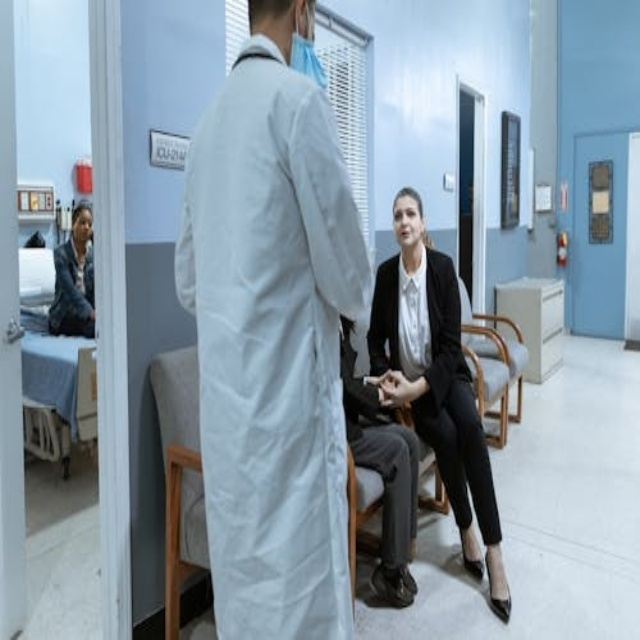Mascara: (289, 10, 327, 90)
Sin_gafas: (393, 209, 420, 222)
Sin_guantes: (376, 370, 421, 408)
Sin_mascara: (400, 228, 412, 237)
